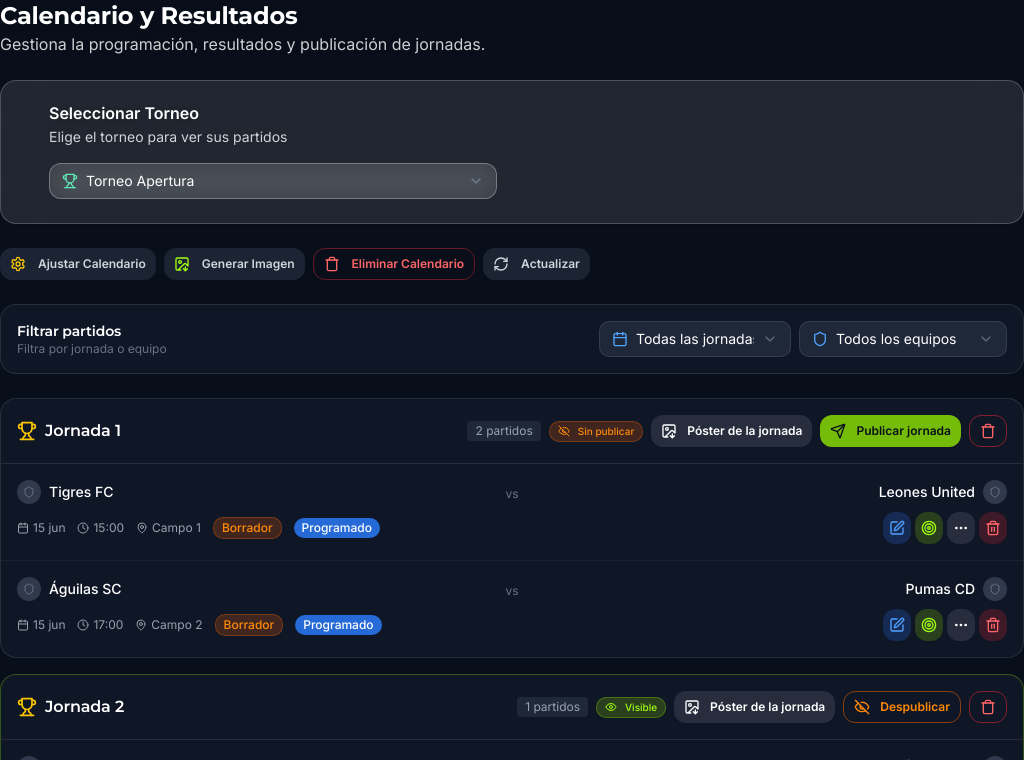
Test: delete round › deletes only that round with DELETE ?round=1 and reports how many matches went
The image size is (1024, 760).
Click the button named "Eliminar jornada" in the row of "Sin publicar".
click(988, 431)  # box [969, 415, 1007, 447]
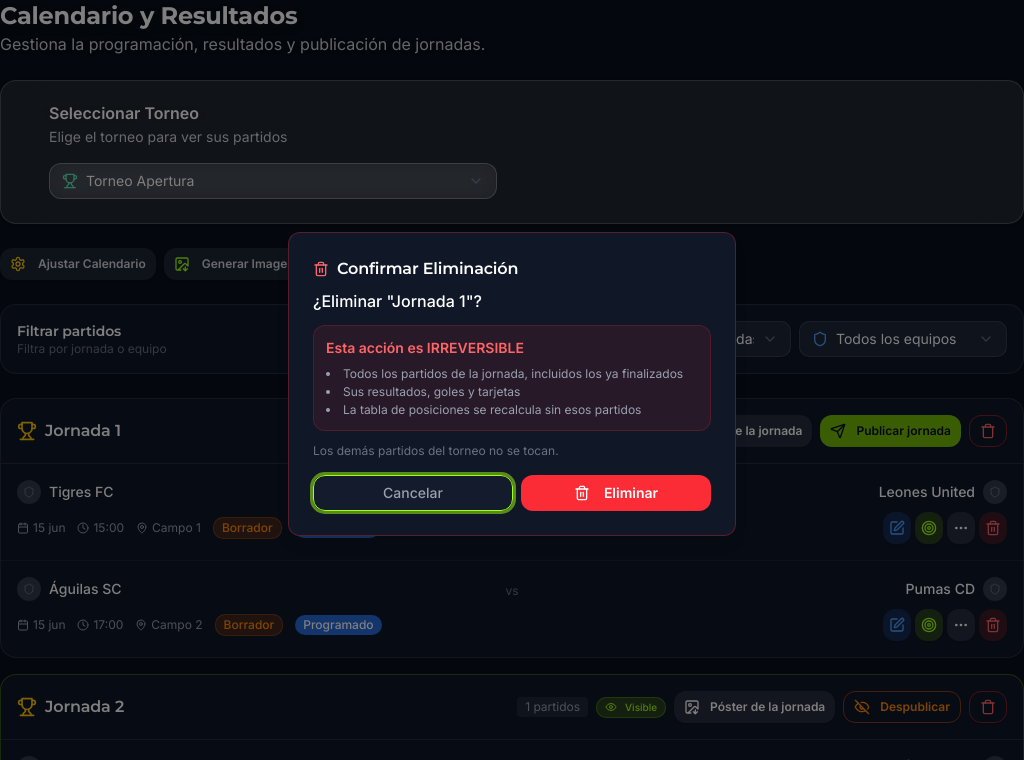
Click the button "Eliminar".
click(616, 493)  # box [521, 475, 711, 511]
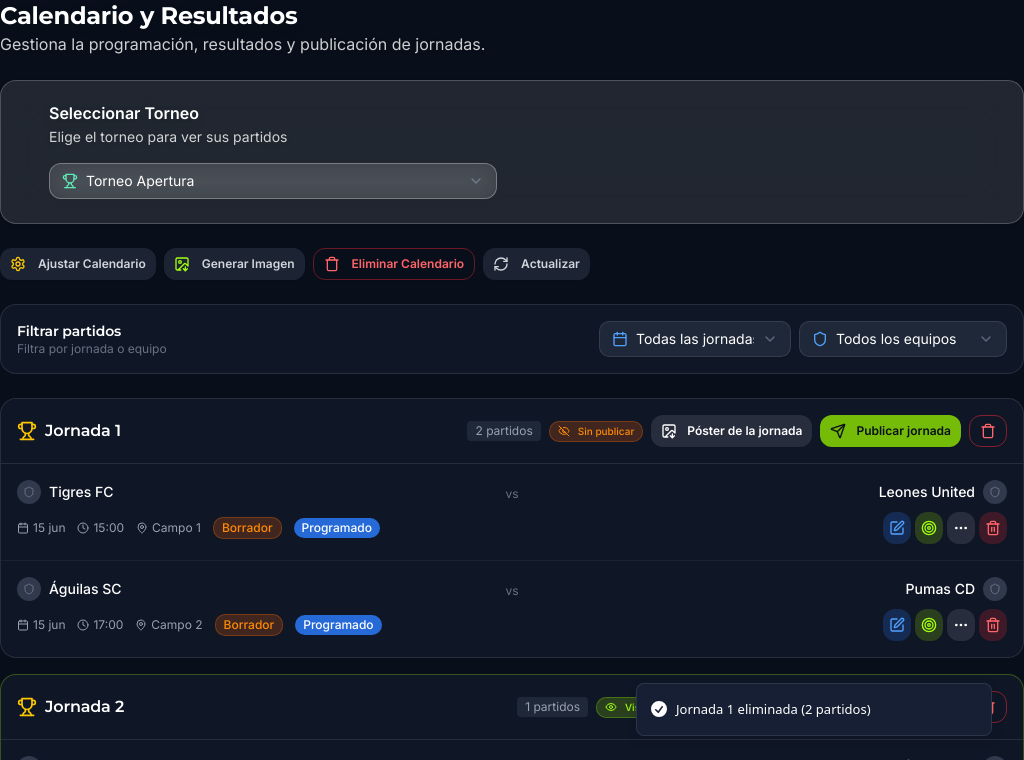
expect the text "Jornada 1 eliminada (2 partidos)" is shown: met, box [676, 700, 870, 719]
